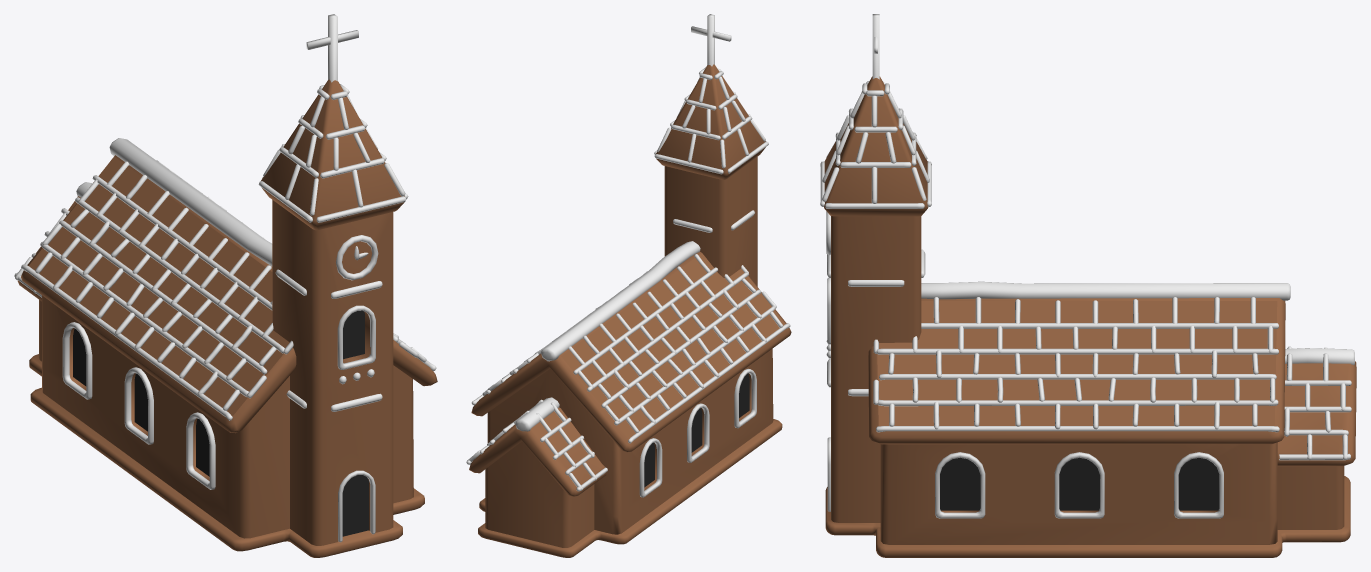
The model's file is GingerBreadChurch_01.fbx.
The picture shows the model from 3 angles, left to right: view 1: azimuth 30°, elevation 25°; view 2: azimuth 150°, elevation 25°; view 3: azimuth 270°, elevation 25°; orthographic projection. The views are drawn at different scales.
Parts seen in each view (by area): view 1: GingerBreadChurch_01; view 2: GingerBreadChurch_01; view 3: GingerBreadChurch_01.
Boxes of the visible parts, x1,y1,x2,y2 form: GingerBreadChurch_01: (14,14,437,557); GingerBreadChurch_01: (466,14,791,557); GingerBreadChurch_01: (820,14,1356,557).
Bounding box in the file's own units: 0.2649 × 0.6228 × 0.6078.
